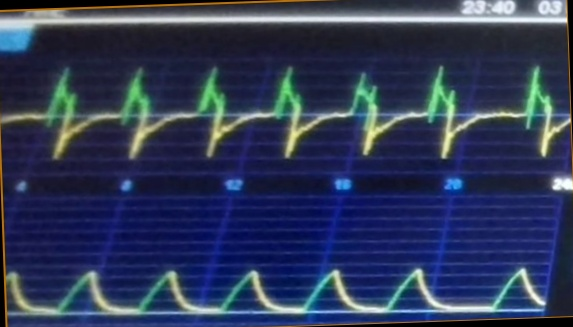Accumulation Flow: (5, 58, 569, 166)
Volume: (9, 247, 545, 317)
